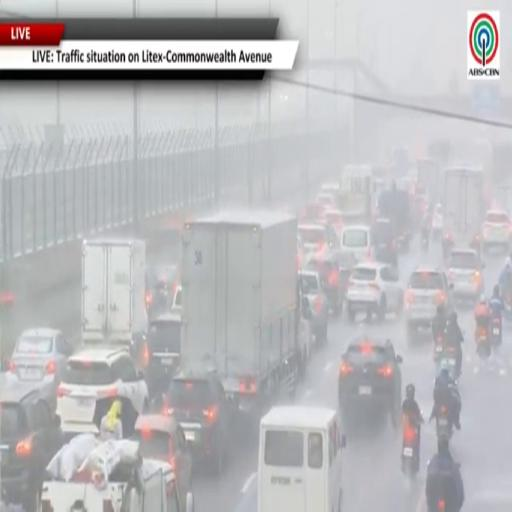car: (57, 346, 149, 435), (0, 381, 62, 510), (164, 372, 233, 474), (339, 336, 402, 427), (132, 414, 192, 503), (8, 328, 73, 410), (405, 267, 455, 343), (346, 263, 403, 322), (145, 312, 181, 401), (305, 252, 344, 315), (298, 270, 329, 345), (447, 248, 484, 301), (146, 265, 179, 317), (371, 216, 398, 266), (297, 222, 338, 254), (340, 225, 373, 262), (332, 249, 357, 297), (482, 210, 510, 250), (324, 208, 344, 237), (299, 202, 324, 222), (432, 204, 443, 238), (316, 191, 336, 207), (171, 284, 182, 312), (321, 182, 340, 195)
motorcycle: (402, 419, 419, 476), (436, 345, 459, 381), (436, 405, 453, 440), (475, 326, 491, 358), (434, 333, 445, 362), (491, 316, 501, 346), (442, 235, 453, 261), (421, 231, 429, 251), (438, 500, 445, 511)
truck: (181, 211, 300, 420), (37, 455, 193, 511), (81, 238, 148, 351), (443, 166, 485, 254), (338, 165, 374, 225), (417, 158, 443, 207)
